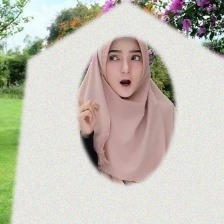Mukena: (14, 35, 224, 224)
